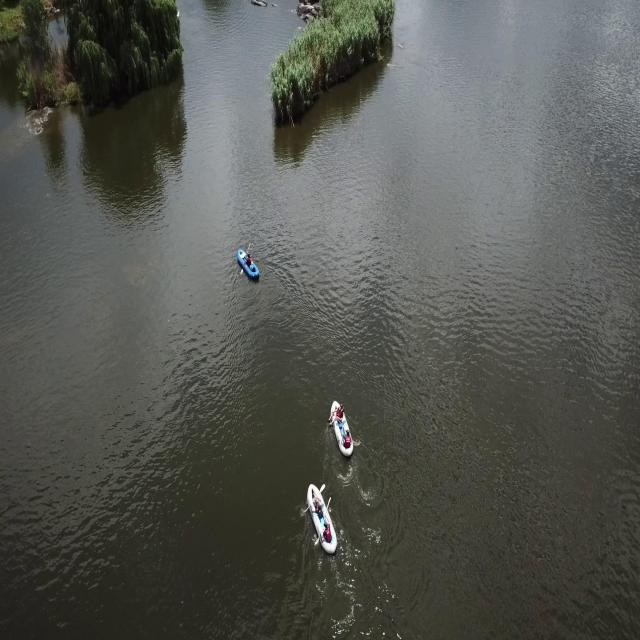kayak: (299, 478, 339, 553), (327, 395, 359, 462), (235, 235, 261, 283)
